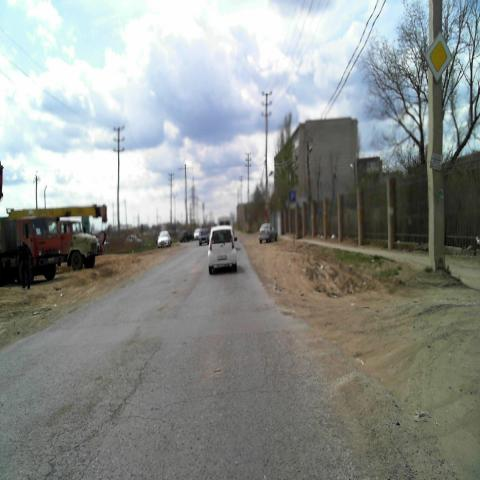2_1: (425, 32, 452, 81)
6_4: (289, 189, 295, 202)
